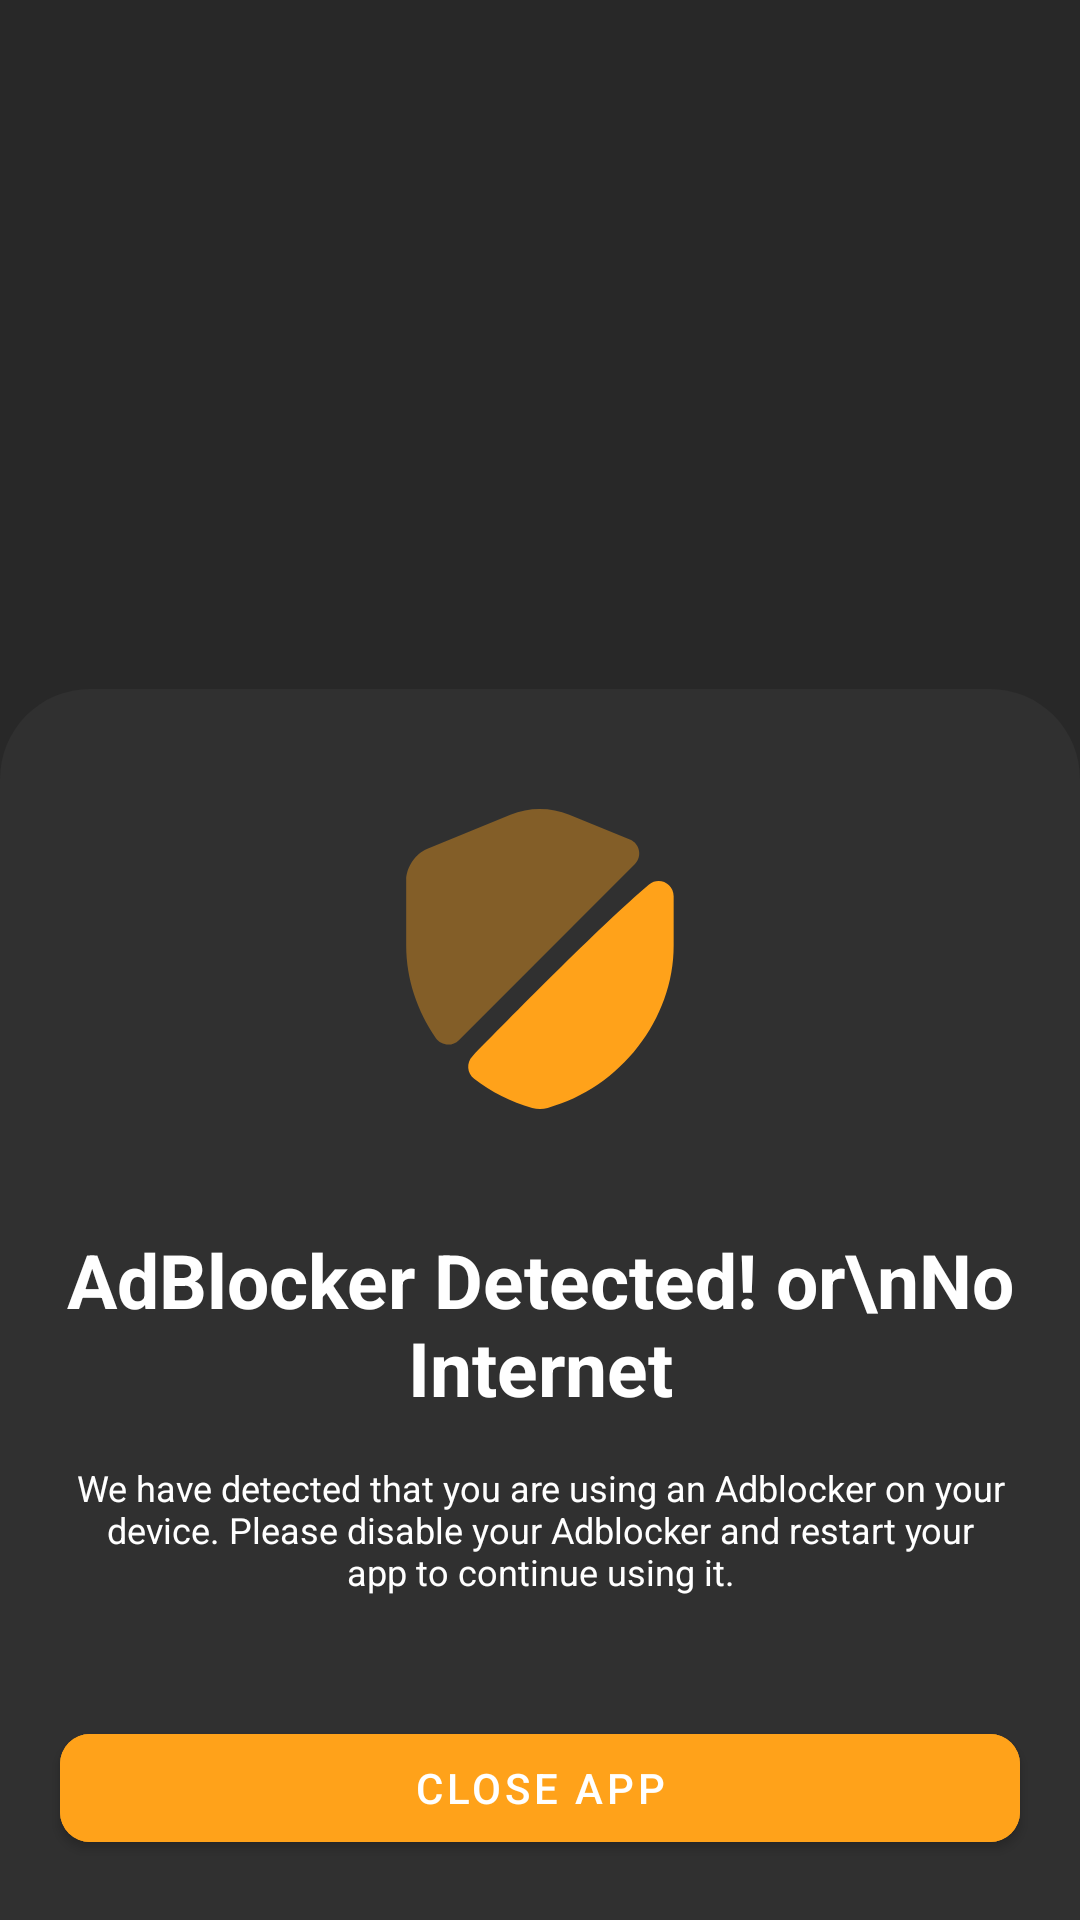

Screen size 1080 × 1920. Icon name, then its center in pixels as point (x, y):
security: point (540, 959)
